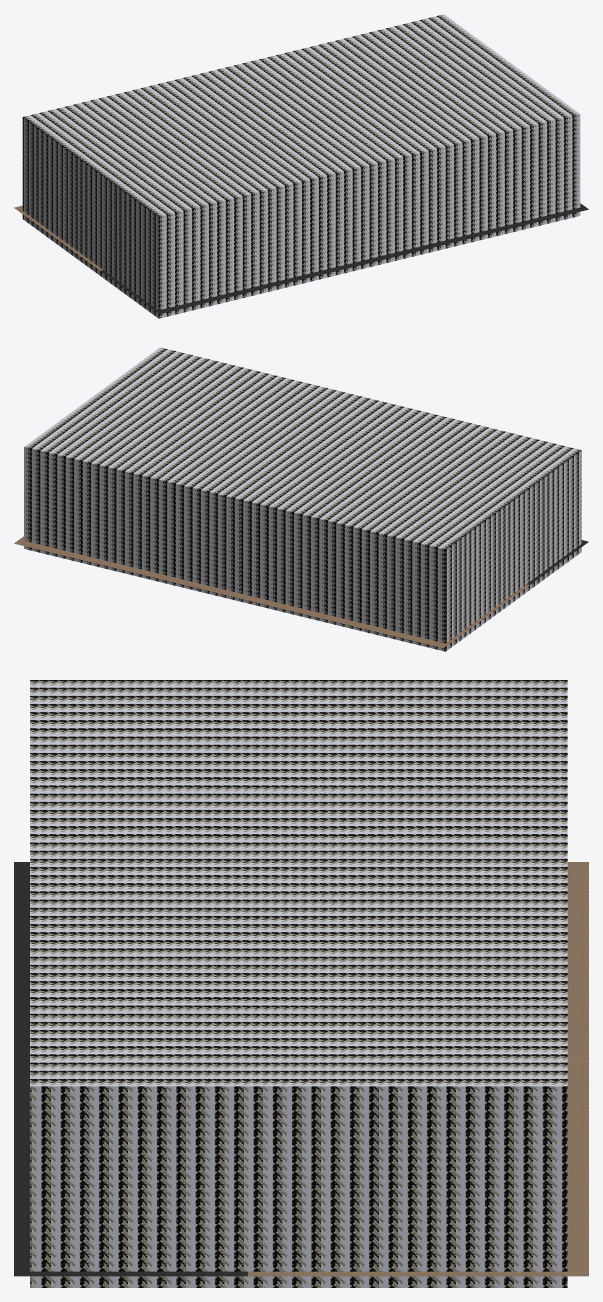
Rendered from Intro4_brush.glb.
3 views of the same model, one above another, from view 1: azimuth 30°, elevation 25°; view 2: azimuth 150°, elevation 25°; view 3: azimuth 270°, elevation 25° (orthographic). The views are drawn at different scales.
Parts seen in each view (by area): view 1: Intro4; view 2: Intro4; view 3: Intro4.
Part boxes in pixels (x1,y1,x2,y2): Intro4: [14, 14, 588, 318]; Intro4: [14, 347, 588, 651]; Intro4: [14, 680, 588, 1287].
Size of the model in its own units: 13004 by 2952 by 7632.
4 materials, 4 textured.
